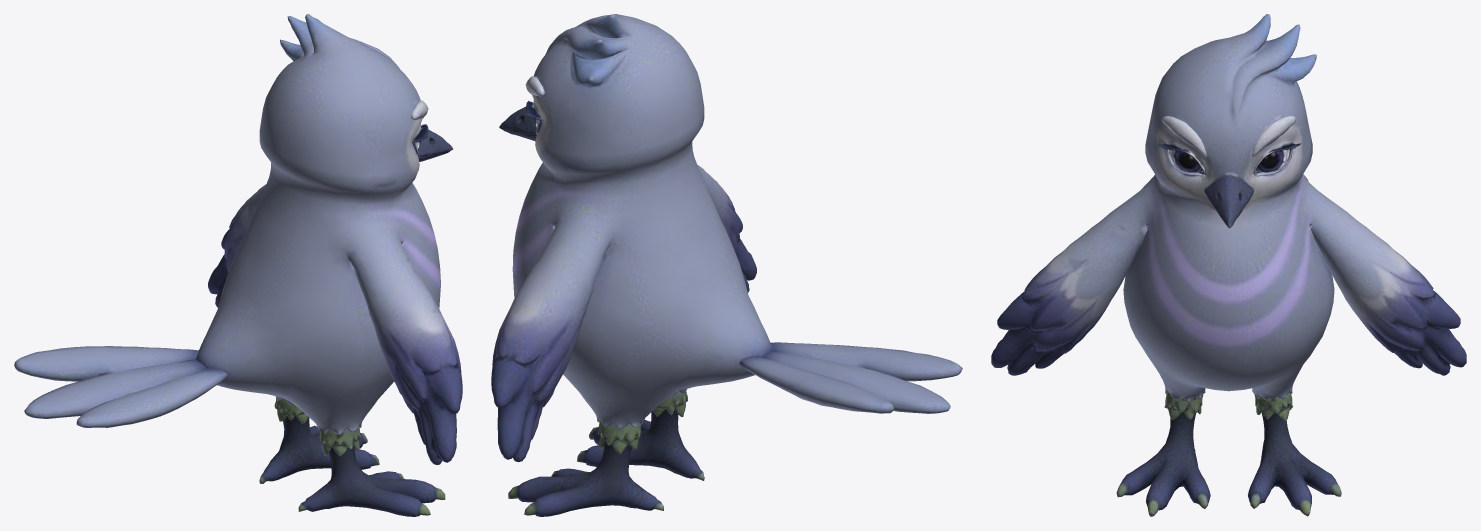
The model's file is 165646061-static-p1.glb.
3 views of the same model, side by side, from view 1: azimuth 30°, elevation 25°; view 2: azimuth 150°, elevation 25°; view 3: azimuth 270°, elevation 25° (orthographic). The views are drawn at different scales.
Visible parts, largest first — view 1: tripo_node_a70f787c-8648-4742-b820-bc599d552fab; view 2: tripo_node_a70f787c-8648-4742-b820-bc599d552fab; view 3: tripo_node_a70f787c-8648-4742-b820-bc599d552fab.
Part boxes in pixels (x1,y1,x2,y2): tripo_node_a70f787c-8648-4742-b820-bc599d552fab: [14, 14, 462, 516]; tripo_node_a70f787c-8648-4742-b820-bc599d552fab: [491, 14, 962, 516]; tripo_node_a70f787c-8648-4742-b820-bc599d552fab: [991, 14, 1466, 516].
Size of the model in its own units: 0.2906 by 0.3 by 0.2789.
1 material, 1 textured.
